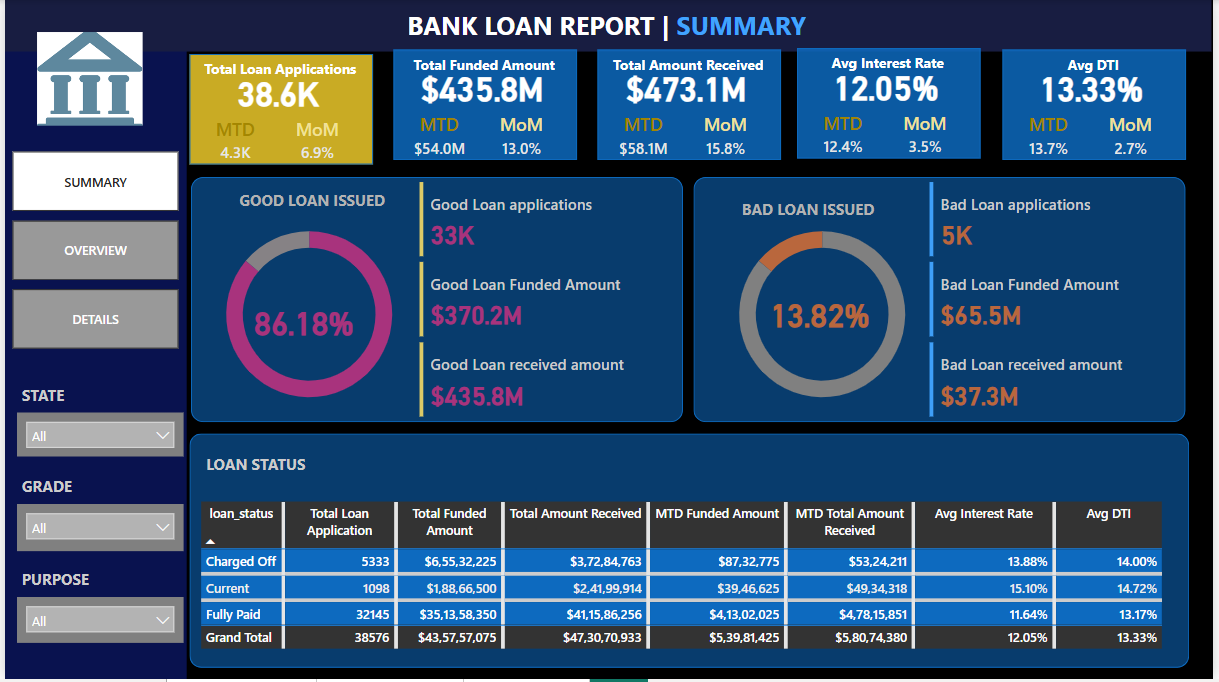

Layout of this report page (visuals, bound fields, positions):
{"tool":"powerbi","page":{"name":"SUMMARY","canvas":[1280,720],"ordinal":0},"visuals":[{"type":"shape","box":[0,41.6,192.8,679],"z":0},{"type":"shape","box":[196.7,188.3,521.7,260],"z":1000},{"type":"shape","box":[0,0,1279.4,54.8],"z":2000},{"type":"shape","box":[840.1,50.8,194.6,117.2],"z":3000,"group":"g4"},{"type":"shape","box":[411.8,52.5,194.6,117.2],"z":3000,"group":"g2"},{"type":"shape","box":[628.5,52.5,194.6,117.2],"z":3000,"group":"g3"},{"type":"shape","box":[1058.5,52.5,194.6,117.2],"z":3000,"group":"g5"},{"type":"shape","box":[196.8,55.8,194.6,117.2],"z":3000,"group":"g1"},{"type":"donutChart","fields":{"Category":["bank_db financial_loan.Good Vs Bad Loan"],"Y":["bank_db financial_loan.Total Loan Application"]},"box":[196.7,218.3,250,230],"z":3000},{"type":"textbox","box":[421.4,3.8,470.6,51],"z":4000},{"type":"card","fields":{"Values":["bank_db financial_loan.Avg Interest Rate"]},"box":[833.3,50,200,82],"z":4000,"group":"g4"},{"type":"card","fields":{"Values":["bank_db financial_loan.Total Funded Amount"]},"box":[405,51.7,200,82],"z":4000,"group":"g2"},{"type":"card","fields":{"Values":["bank_db financial_loan.Total Amount Received"]},"box":[621.7,51.7,200,82],"z":4000,"group":"g3"},{"type":"card","fields":{"Values":["bank_db financial_loan.Avg DTI"]},"box":[1051.7,51.7,200,82],"z":4000,"group":"g5"},{"type":"card","fields":{"Values":["bank_db financial_loan.Total Loan Application"]},"box":[190,55,200,82],"z":4000,"group":"g1"},{"type":"textbox","box":[845.7,50.8,179.5,35.9],"z":5000,"group":"g4"},{"type":"textbox","box":[417.4,52.5,179.5,35.9],"z":5000,"group":"g2"},{"type":"textbox","box":[634.1,52.5,179.5,35.9],"z":5000,"group":"g3"},{"type":"textbox","box":[1064.1,52.5,179.5,35.9],"z":5000,"group":"g5"},{"type":"group","id":"g1","title":"Group 1","box":[190,55,200,118.3],"z":5000},{"type":"textbox","box":[202.4,55.8,179.5,35.9],"z":5000,"group":"g1"},{"type":"group","id":"g2","title":"Group 1","box":[405,51.7,200,118.3],"z":6000},{"type":"card","title":"MTD","fields":{"Values":["bank_db financial_loan.MTD Avg Interest Rate"]},"box":[845.3,118,84,50],"z":6000,"group":"g4"},{"type":"card","title":"MTD","fields":{"Values":["bank_db financial_loan.MTD Funded Amount"]},"box":[417,119.7,84,50],"z":6000,"group":"g2"},{"type":"card","title":"MTD","fields":{"Values":["bank_db financial_loan.MTD Total Amount Received"]},"box":[633.7,119.7,84,50],"z":6000,"group":"g3"},{"type":"card","title":"MTD","fields":{"Values":["bank_db financial_loan.MTD avg dti"]},"box":[1063.7,119.7,84,50],"z":6000,"group":"g5"},{"type":"card","title":"MTD","fields":{"Values":["bank_db financial_loan.MTD Loan Applications"]},"box":[202,123,84,50],"z":6000,"group":"g1"},{"type":"card","title":"MoM","fields":{"Values":["bank_db financial_loan.MoM Avg Interest Rate"]},"box":[934,117.7,83.3,50],"z":7000,"group":"g4"},{"type":"card","title":"MoM","fields":{"Values":["bank_db financial_loan.MoM Total Funded Amount"]},"box":[505.7,119.4,83.3,50],"z":7000,"group":"g2"},{"type":"card","title":"MoM","fields":{"Values":["bank_db financial_loan.MoM Total Received Amount"]},"box":[722.4,119.4,83.3,50],"z":7000,"group":"g3"},{"type":"card","title":"MoM","fields":{"Values":["bank_db financial_loan.MoM Avg dti"]},"box":[1152.4,119.4,83.3,50],"z":7000,"group":"g5"},{"type":"card","title":"MoM","fields":{"Values":["bank_db financial_loan.MoM Loan Application"]},"box":[290.7,122.7,83.3,50],"z":7000,"group":"g1"},{"type":"card","fields":{"Values":["bank_db financial_loan.Good Loan %"]},"box":[216.7,298.3,200,81.7],"z":7000},{"type":"group","id":"g3","title":"Group 1","box":[621.7,51.7,200,118.3],"z":8000},{"type":"group","id":"g4","title":"Group 1","box":[833.3,50,200,118.3],"z":9000},{"type":"group","id":"g5","title":"Group 1","box":[1051.7,51.7,200,118.3],"z":10000},{"type":"shape","box":[730,188.3,521.7,260],"z":11000},{"type":"textbox","box":[243.3,195,178.3,46.7],"z":12000},{"type":"cardVisual","fields":{"Data":["bank_db financial_loan.Good Loan applications","bank_db financial_loan.Good Loan Funded Amount","bank_db financial_loan.Good Loan received amount"]},"box":[435,188.3,270,260],"z":13000},{"type":"donutChart","fields":{"Category":["bank_db financial_loan.Good Vs Bad Loan"],"Y":["bank_db financial_loan.Total Loan Application"]},"box":[741.7,218.3,250,230],"z":14000},{"type":"card","fields":{"Values":["bank_db financial_loan.Bad Loan %"]},"box":[763.3,291.7,200,81.7],"z":15000},{"type":"textbox","box":[776.7,205,186.7,46.7],"z":16000},{"type":"shape","box":[195,460,1060,248.3],"z":17000},{"type":"textbox","box":[208.3,475,183.3,38.3],"z":18000},{"type":"cardVisual","fields":{"Data":["bank_db financial_loan.Bad Loan applications","bank_db financial_loan.Bad Loan Funded Amount","bank_db financial_loan.Bad Loan received amount"]},"box":[975,188.3,270,260],"z":19000},{"type":"tableEx","fields":{"Values":["bank_db financial_loan.loan_status","bank_db financial_loan.Total Loan Application","bank_db financial_loan.Total Funded Amount","bank_db financial_loan.Total Amount Received","bank_db financial_loan.MTD Funded Amount","bank_db financial_loan.MTD Total Amount Received","bank_db financial_loan.Avg Interest Rate","bank_db financial_loan.Avg DTI"]},"box":[201.7,526.7,1043.3,181.7],"z":20000},{"type":"slicer","fields":{"Values":["bank_db financial_loan.address_state"]},"box":[13.3,436.7,176.7,46.7],"z":21000},{"type":"textbox","box":[13.3,401.7,126.7,35],"z":22000},{"type":"slicer","fields":{"Values":["bank_db financial_loan.grade"]},"box":[13.3,535,176.7,50],"z":23000},{"type":"slicer","fields":{"Values":["bank_db financial_loan.purpose"]},"box":[13.3,633.3,176.7,48.3],"z":24000},{"type":"textbox","box":[13.3,598.3,126.7,35],"z":25000},{"type":"textbox","box":[13.3,500,126.7,35],"z":26000},{"type":"pageNavigator","box":[8,160.7,176.6,211.6],"z":27000},{"type":"image","box":[28.6,28.6,122.5,109.8],"z":28000}]}

Visuals, with their boxes in screenshot pixels (x1, y1, x2, y2), scaled from the page's 1280x720 canvas onto the 1219x682 screenshot:
shape: (0,39,184,681)
shape: (187,178,684,425)
shape: (0,0,1218,52)
shape: (800,48,985,159)
shape: (392,50,578,161)
shape: (599,50,784,161)
shape: (1008,50,1193,161)
shape: (187,53,373,164)
donutChart - bank_db financial_loan.Good Vs Bad Loan x bank_db financial_loan.Total Loan Application: (187,207,425,425)
textbox: (401,4,849,52)
card - bank_db financial_loan.Avg Interest Rate: (794,47,984,125)
card - bank_db financial_loan.Total Funded Amount: (386,49,576,127)
card - bank_db financial_loan.Total Amount Received: (592,49,783,127)
card - bank_db financial_loan.Avg DTI: (1002,49,1192,127)
card - bank_db financial_loan.Total Loan Application: (181,52,371,130)
textbox: (805,48,976,82)
textbox: (398,50,568,84)
textbox: (604,50,775,84)
textbox: (1013,50,1184,84)
"Group 1" group: (181,52,371,164)
textbox: (193,53,364,87)
"Group 1" group: (386,49,576,161)
"MTD" card: (805,112,885,159)
"MTD" card: (397,113,477,161)
"MTD" card: (604,113,683,161)
"MTD" card: (1013,113,1093,161)
"MTD" card: (192,117,272,164)
"MoM" card: (889,111,969,159)
"MoM" card: (482,113,561,160)
"MoM" card: (688,113,767,160)
"MoM" card: (1097,113,1177,160)
"MoM" card: (277,116,356,164)
card - bank_db financial_loan.Good Loan %: (206,283,397,360)
"Group 1" group: (592,49,783,161)
"Group 1" group: (794,47,984,159)
"Group 1" group: (1002,49,1192,161)
shape: (695,178,1192,425)
textbox: (232,185,402,229)
cardVisual - bank_db financial_loan.Good Loan applications x bank_db financial_loan.Good Loan Funded Amount: (414,178,671,425)
donutChart - bank_db financial_loan.Good Vs Bad Loan x bank_db financial_loan.Total Loan Application: (706,207,944,425)
card - bank_db financial_loan.Bad Loan %: (727,276,917,354)
textbox: (740,194,917,238)
shape: (186,436,1195,671)
textbox: (198,450,373,486)
cardVisual - bank_db financial_loan.Bad Loan applications x bank_db financial_loan.Bad Loan Funded Amount: (929,178,1186,425)
tableEx - bank_db financial_loan.loan_status x bank_db financial_loan.Total Loan Application: (192,499,1186,671)
slicer - bank_db financial_loan.address_state: (13,414,181,458)
textbox: (13,380,133,414)
slicer - bank_db financial_loan.grade: (13,507,181,554)
slicer - bank_db financial_loan.purpose: (13,600,181,646)
textbox: (13,567,133,600)
textbox: (13,474,133,507)
pageNavigator: (8,152,176,353)
image: (27,27,144,131)
